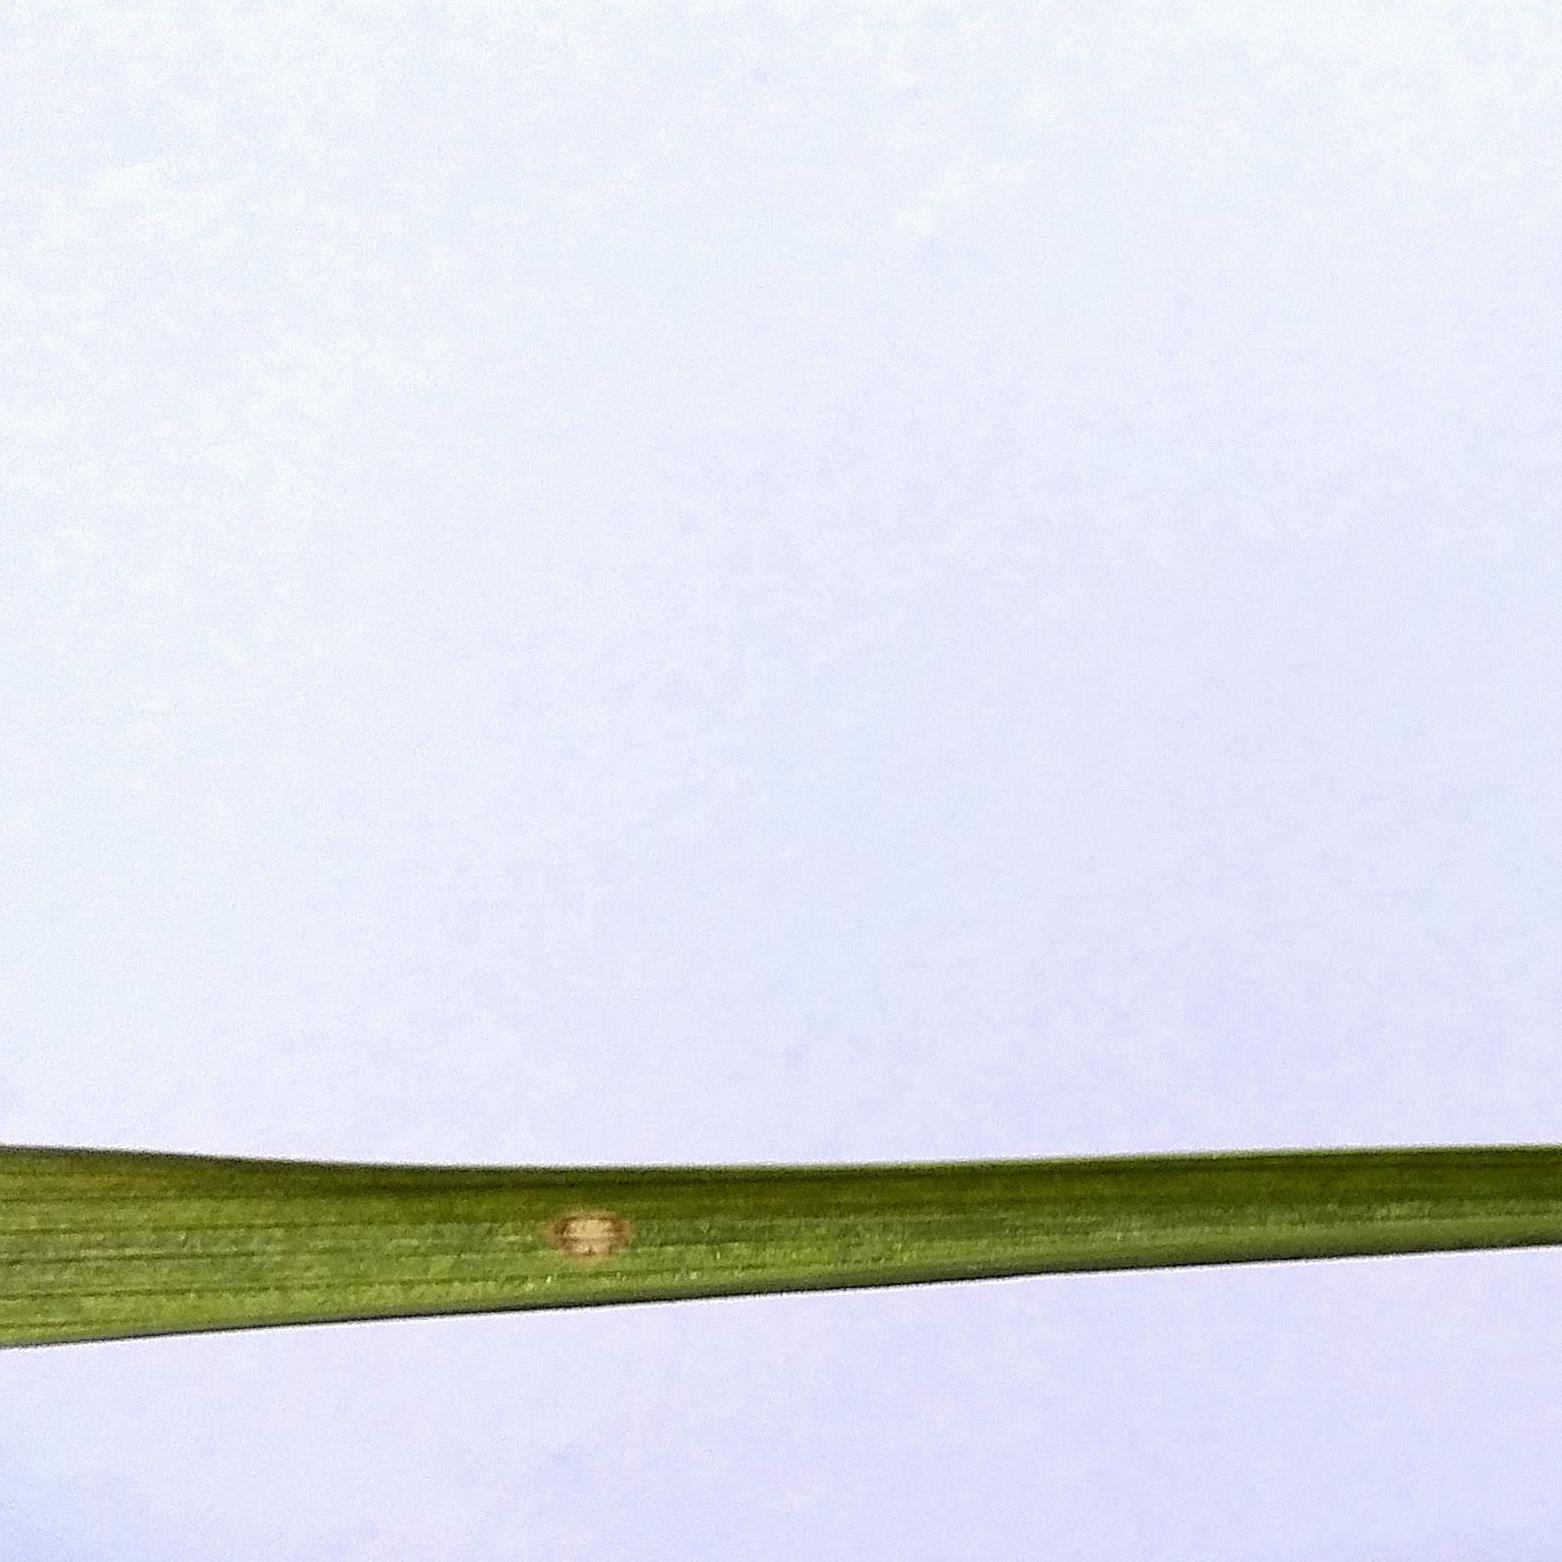1 RiceBlast: (536, 1202, 639, 1270)
